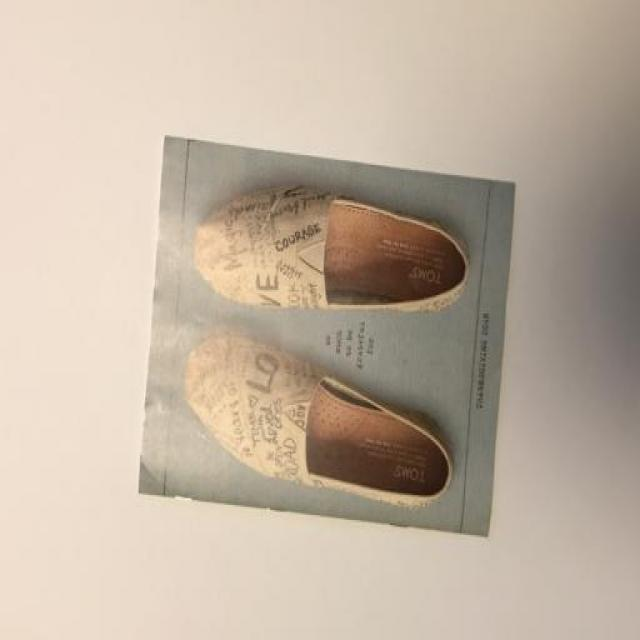paper: (122, 101, 553, 595)
